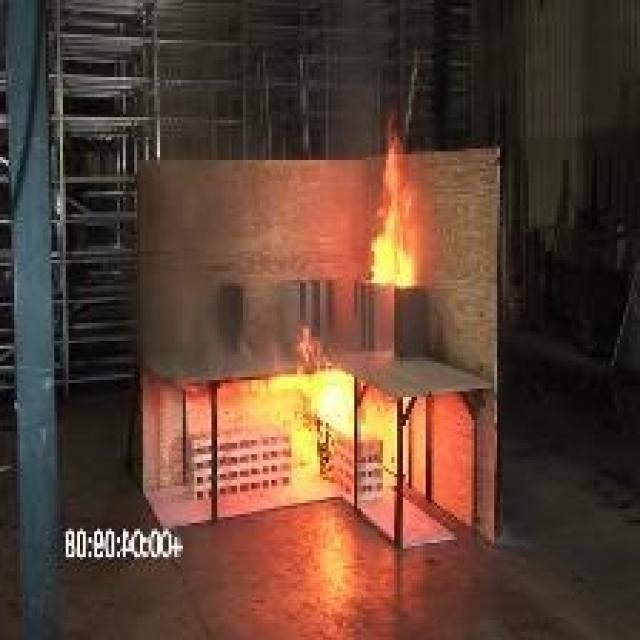fire: (196, 349, 413, 500), (324, 117, 444, 312)
